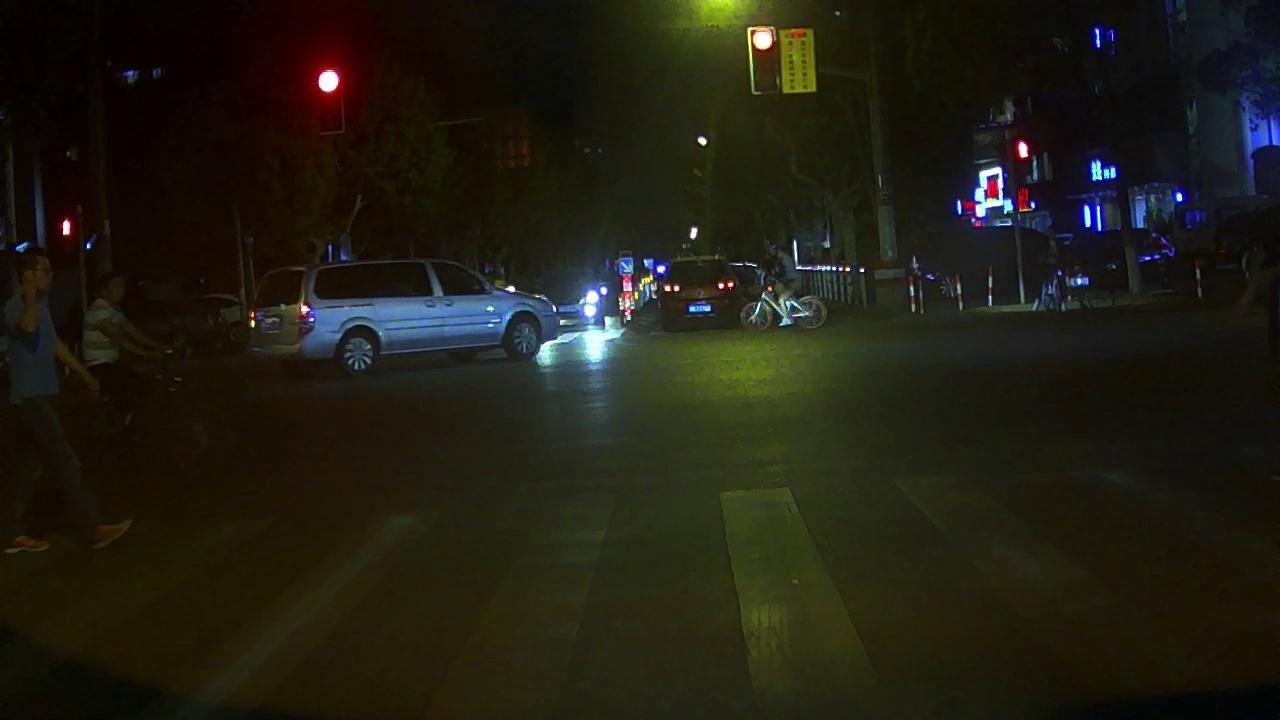traffic_light: (316, 61, 345, 133), (749, 28, 778, 92)
